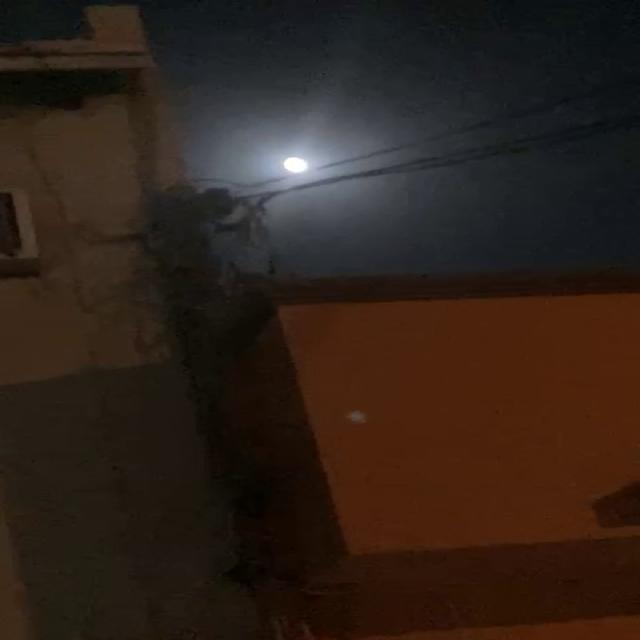moon: (281, 151, 327, 181)
